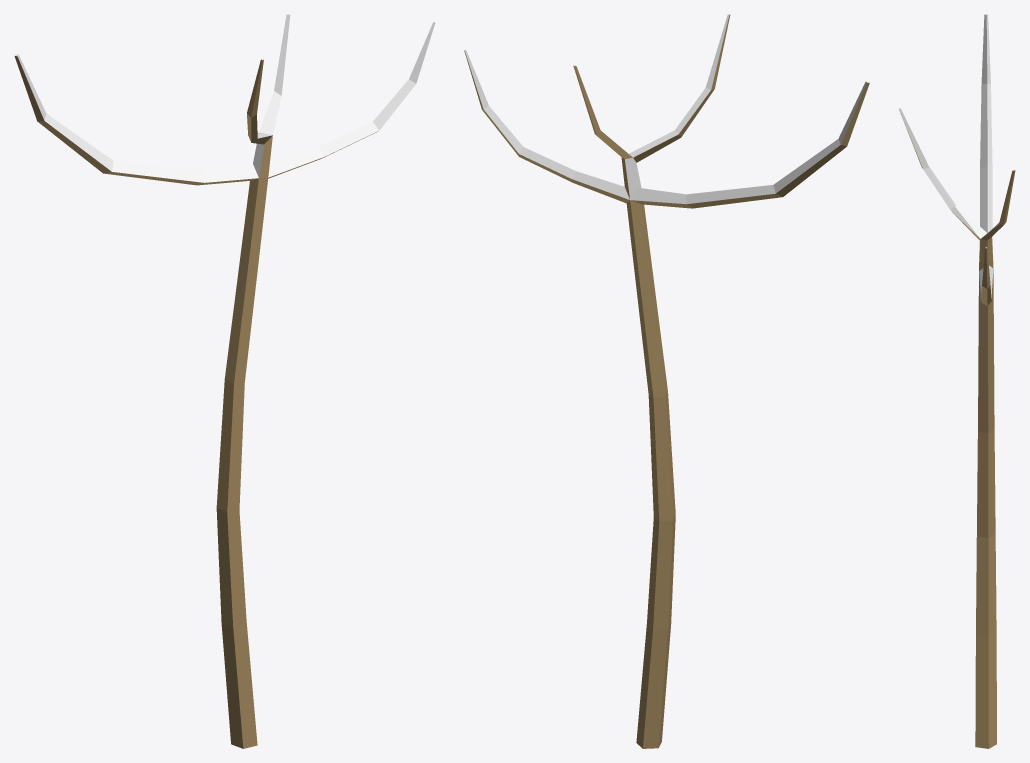
File: Acacia_Tree_NoLeaves_m_Snow_01.fbx
The picture shows the model from 3 angles, left to right: view 1: azimuth 30°, elevation 25°; view 2: azimuth 150°, elevation 25°; view 3: azimuth 270°, elevation 25°; orthographic projection. The views are drawn at different scales.
Parts seen in each view (by area): view 1: Acacia_Tree_NoLeaves_m_Snow_01; view 2: Acacia_Tree_NoLeaves_m_Snow_01; view 3: Acacia_Tree_NoLeaves_m_Snow_01.
Boxes of the visible parts, x1,y1,x2,y2 form: Acacia_Tree_NoLeaves_m_Snow_01: [14, 14, 435, 748]; Acacia_Tree_NoLeaves_m_Snow_01: [464, 14, 869, 748]; Acacia_Tree_NoLeaves_m_Snow_01: [898, 14, 1015, 748].
Size of the model in its own units: 555 by 937 by 156.
